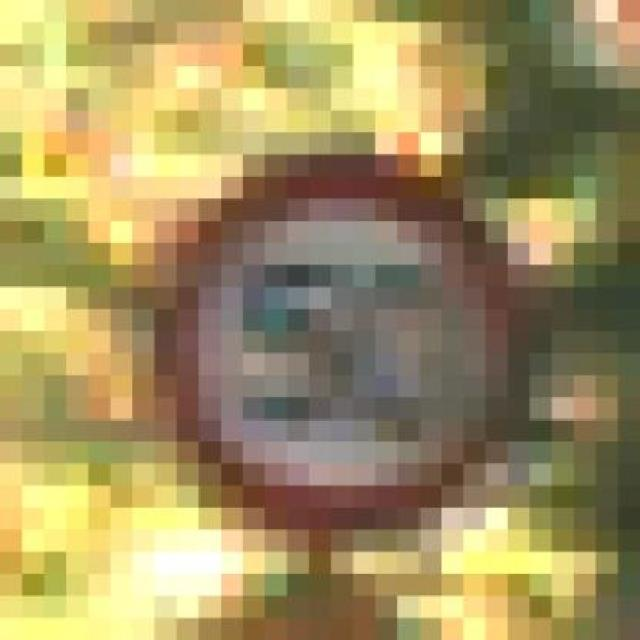forb_speed_over_50: (175, 166, 521, 508)
